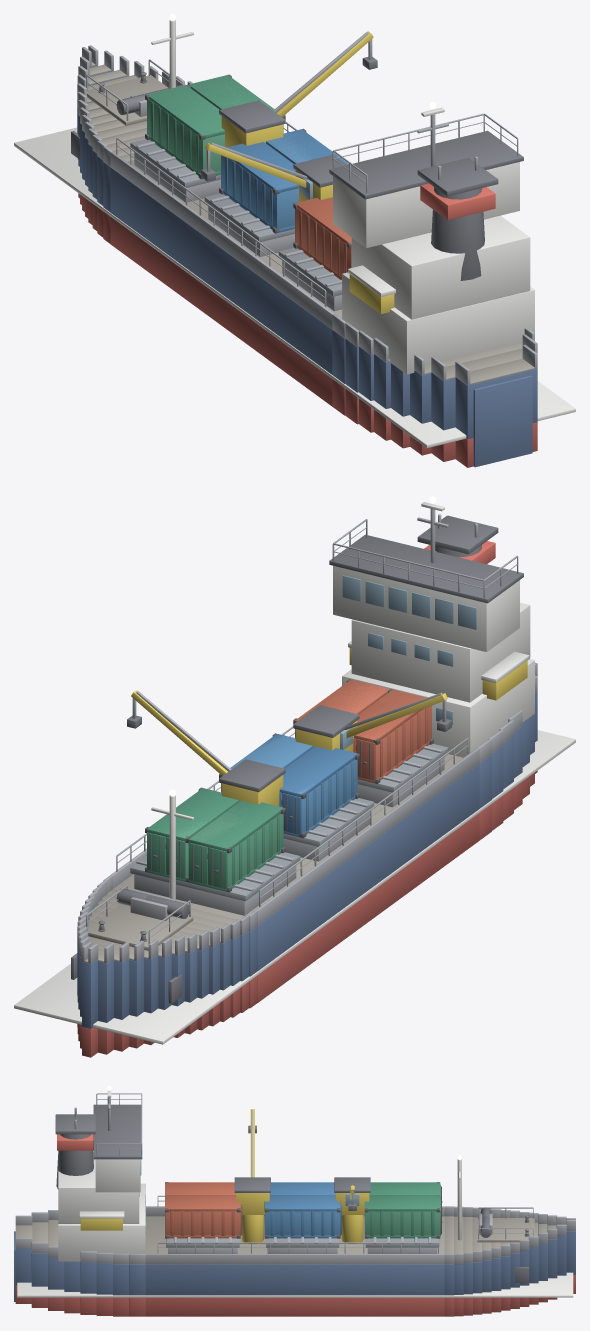
Rendered from th15_frachtschiff.glb.
The picture shows the model from 3 angles, top to bottom: view 1: azimuth 30°, elevation 25°; view 2: azimuth 150°, elevation 25°; view 3: azimuth 270°, elevation 25°; orthographic projection. The views are drawn at different scales.
Parts seen in each view (by area): view 1: Cube.118, Cube.001, Cube.117, Cube, Cube.115, Cube.119, Cube.120, Cube.116, Cube.003, Cone, Cube.317, Cube.241 (+37 smaller); view 2: Cube.001, Cube.118, Cube.115, Cube.119, Cube, Cube.120, Cube.117, Cube.003, Cube.375, Cube.174, Cube.301, Cube.317 (+30 smaller); view 3: Cube.001, Cube, Cube.004, Cube.115, Cube.118, Cube.117, Cube.120, Cube.002, Cube.119, Cube.331, Cube.211, Cube.271 (+53 smaller).
Part boxes in pixels (x1,y1,x2,y2): Cube.118: [351, 215, 530, 319]; Cube.001: [110, 167, 332, 374]; Cube.117: [342, 272, 534, 374]; Cube: [110, 217, 332, 406]; Cube.115: [14, 127, 575, 448]; Cube.119: [333, 162, 519, 248]; Cube.120: [329, 130, 523, 199]; Cube.116: [473, 375, 532, 467]; Cube.003: [110, 151, 334, 328]; Cone: [431, 187, 484, 280]; Cube.317: [147, 85, 224, 138]; Cube.241: [221, 155, 298, 228]; Cube.001: [257, 764, 479, 971]; Cube.118: [351, 602, 530, 702]; Cube.115: [14, 730, 575, 1044]; Cube.119: [333, 565, 519, 651]; Cube: [257, 813, 479, 1002]; Cube.120: [329, 534, 523, 603]; Cube.117: [342, 659, 534, 757]; Cube.003: [255, 748, 479, 925]; Cube.375: [87, 904, 193, 950]; Cube.174: [134, 865, 296, 915]; Cube.301: [189, 802, 283, 887]; Cube.317: [188, 800, 282, 851]; Cube.001: [145, 1264, 444, 1295]; Cube: [145, 1297, 444, 1316]; Cube.004: [145, 1254, 444, 1264]; Cube.115: [17, 1272, 573, 1297]; Cube.118: [58, 1150, 139, 1223]; Cube.117: [58, 1183, 145, 1261]; Cube.120: [93, 1104, 142, 1159]; Cube.002: [145, 1216, 444, 1253]; Cube.119: [95, 1159, 140, 1192]; Cube.331: [364, 1211, 440, 1235]; Cube.211: [165, 1211, 240, 1235]; Cube.271: [265, 1211, 340, 1235].
Size of the model in its own units: 15.25 by 18.25 by 45.07.
